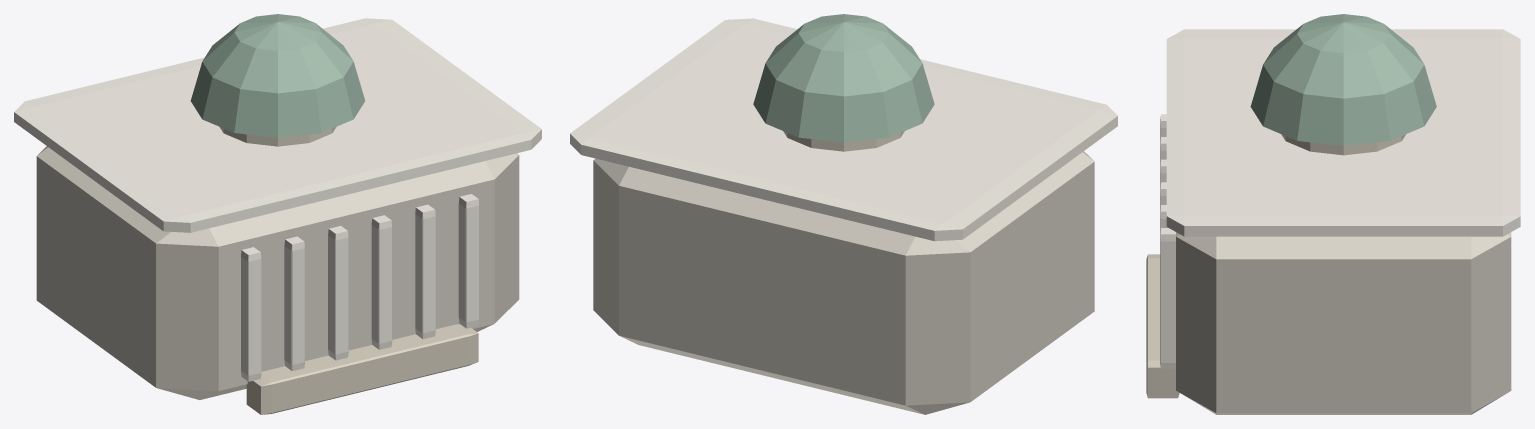
Rendered from government.glb.
3 views of the same model, side by side, from view 1: azimuth 30°, elevation 25°; view 2: azimuth 150°, elevation 25°; view 3: azimuth 270°, elevation 25° (orthographic). The views are drawn at different scales.
Parts seen in each view (by area): view 1: walls, cornice, dome, steps, col.15237, col.15239, col.15238, col.15236, col.15234, col.15235, drum; view 2: walls, cornice, dome, drum; view 3: walls, cornice, dome, steps, col.15239, drum.
Boxes of the visible parts, x1,y1,x2,y2 form: walls: [36, 146, 519, 399]; cornice: [14, 18, 541, 232]; dome: [190, 14, 365, 137]; steps: [246, 324, 478, 414]; col.15237: [371, 215, 392, 349]; col.15239: [458, 194, 479, 328]; col.15238: [415, 204, 435, 339]; col.15236: [328, 226, 348, 360]; col.15234: [241, 247, 261, 381]; col.15235: [284, 236, 304, 371]; drum: [219, 127, 336, 146]; walls: [593, 151, 1094, 414]; cornice: [570, 18, 1117, 241]; dome: [753, 14, 934, 142]; drum: [783, 131, 904, 151]; walls: [1176, 232, 1511, 414]; cornice: [1166, 29, 1520, 236]; dome: [1250, 14, 1436, 145]; steps: [1146, 254, 1179, 398]; col.15239: [1160, 228, 1175, 369]; drum: [1281, 134, 1405, 155].
Bounding box in the file's own units: 25 × 19 × 20.1.
